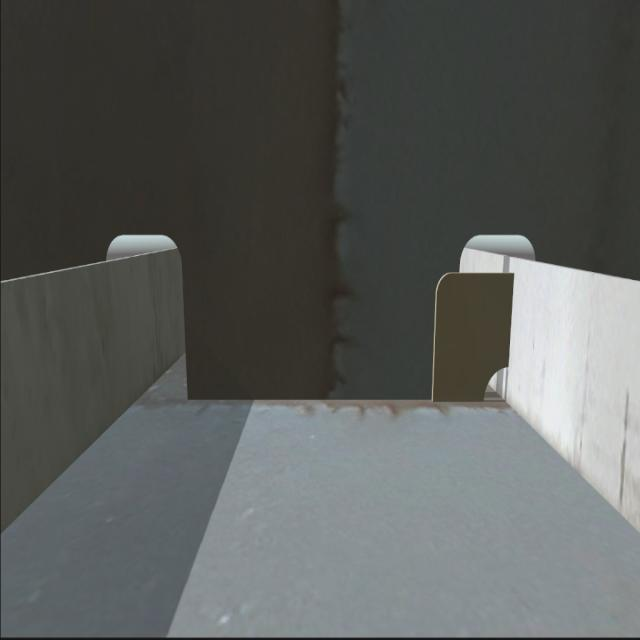fillet_hole: (484, 367, 510, 405)
fillet_yong_jeop_jang: (182, 389, 485, 411)
longi_yong_jeop_jang: (506, 266, 518, 369)
plate_CP05: (434, 266, 514, 402)
